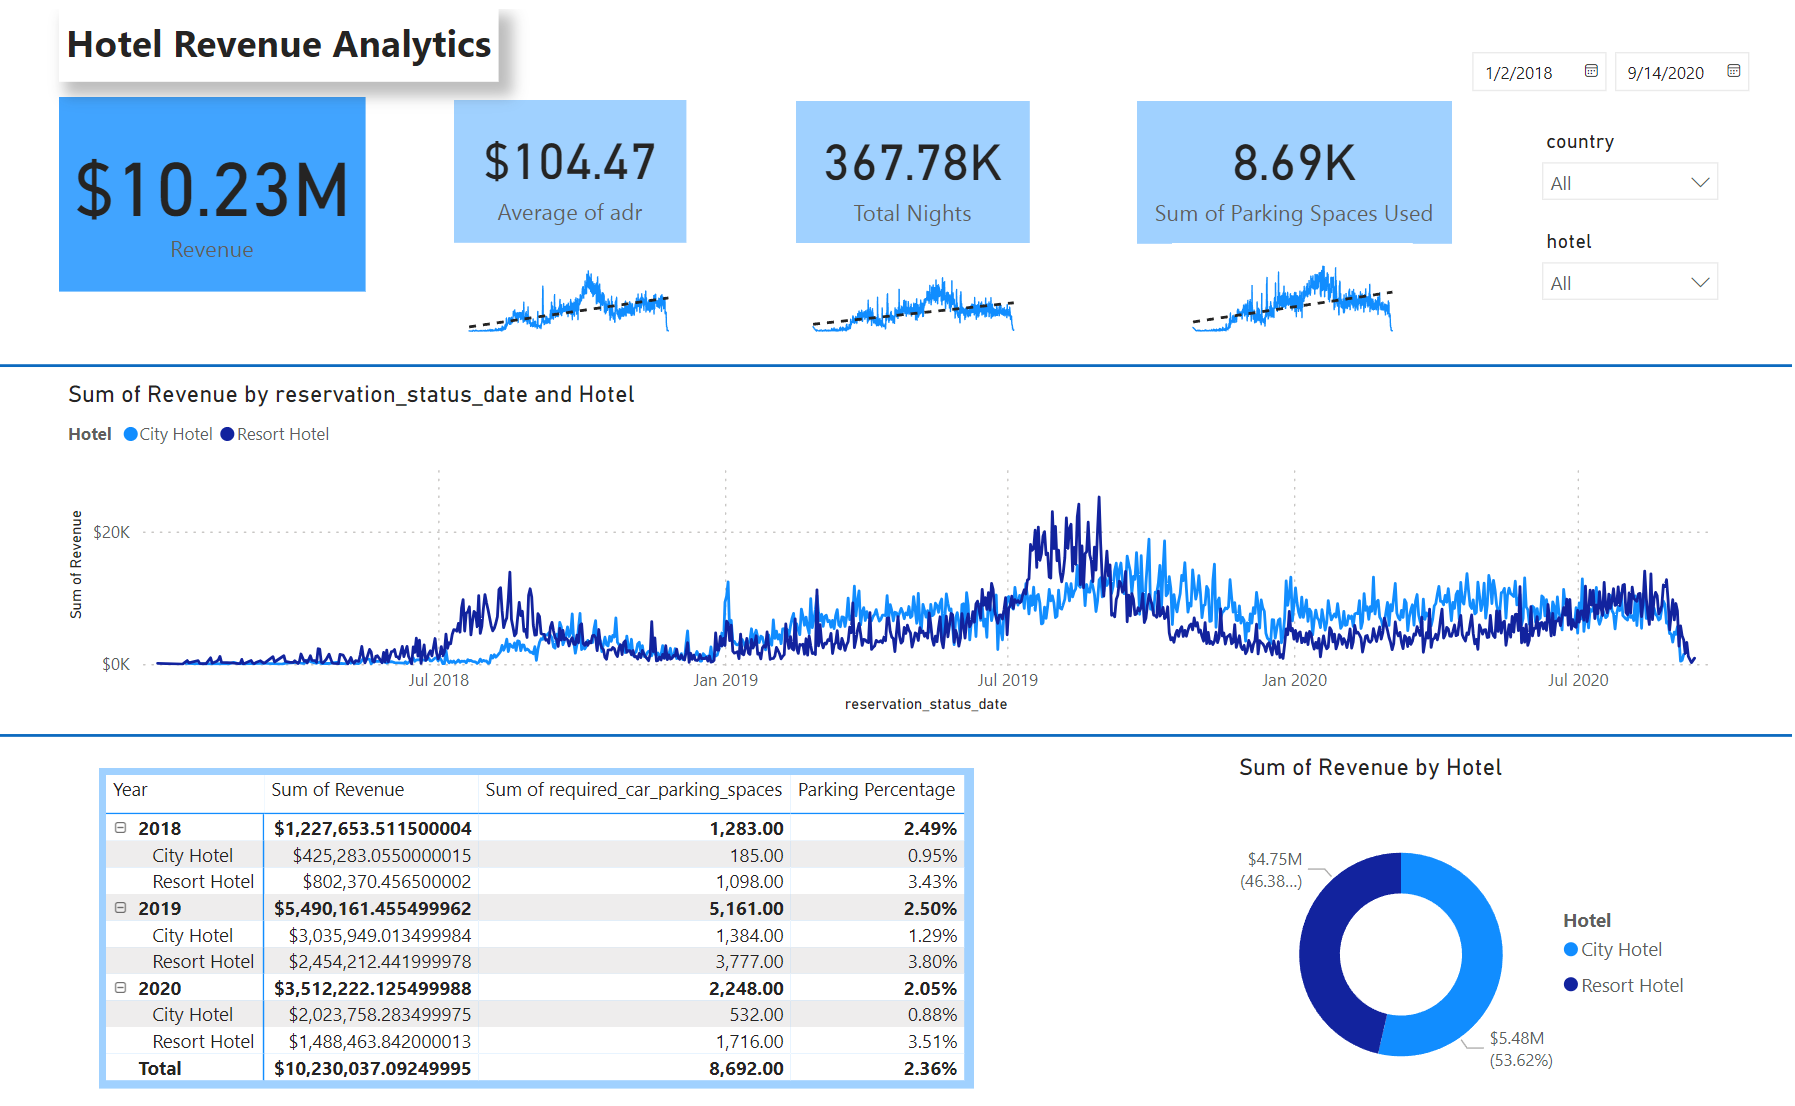

This screenshot's page, from the dashboard's own definition file:
{"tool":"powerbi","page":{"name":"Page 1","canvas":[1280,800],"ordinal":0},"visuals":[{"type":"shape","box":[0,245.1,1280,19.5],"z":0},{"type":"shape","box":[0,506.6,1280,24.9],"z":1000},{"type":"card","fields":{"Values":["Sum(Query1.Revenue)"]},"box":[42.4,63.1,218.7,138.9],"z":2000},{"type":"card","fields":{"Values":["Avg(Query1.adr)"]},"box":[324.1,65,165.5,102.5],"z":3000},{"type":"card","fields":{"Values":["Query1.Total Nights"]},"box":[568.5,66,166.5,102.5],"z":4000},{"type":"lineChart","fields":{"Category":["Query1.reservation_status_date"],"Y":["Sum(Query1.Revenue)"],"Series":["Query1.hotel"]},"box":[43.6,264.7,1193.8,241.9],"z":6000},{"type":"slicer","fields":{"Values":["Query1.country"]},"box":[1091.6,81.8,145.8,70],"z":7000},{"type":"slicer","fields":{"Values":["Query1.hotel"]},"box":[1091.6,152.7,145.8,65],"z":8000},{"type":"lineChart","fields":{"Category":["Query1.reservation_status_date"],"Y":["Sum(Query1.adr)"]},"box":[320.2,167.5,172.4,69],"z":9000},{"type":"lineChart","fields":{"Category":["Query1.reservation_status_date"],"Y":["Query1.Total Nights"]},"box":[565.5,167.5,173.4,69],"z":10000},{"type":"card","fields":{"Values":["Sum(Query1.required_car_parking_spaces)"]},"box":[811.8,66,224.6,102.5],"z":12000},{"type":"lineChart","fields":{"Category":["Query1.reservation_status_date"],"Y":["CountNonNull(Query1.reservation_status_date)"]},"box":[837.4,167.5,172.4,69],"z":13000},{"type":"donutChart","fields":{"Category":["Query1.hotel"],"Y":["Sum(Query1.Revenue)"]},"box":[880.3,531.5,337.4,268.9],"z":14000},{"type":"pivotTable","fields":{"Rows":["Query1.reservation_status_date.Variation.Date Hierarchy.Year","Query1.hotel"],"Values":["Sum(Query1.Revenue)","Sum(Query1.required_car_parking_spaces)","Query1.Parking Percentage"]},"box":[70.9,541.9,624.6,228.6],"z":15000},{"type":"slicer","fields":{"Values":["Query1.reservation_status_date"]},"box":[1038.4,20.7,219.7,42.4],"z":16000},{"type":"textbox","box":[42.4,0,314.3,52.2],"z":16001}]}

Visuals, with their boxes in screenshot pixels (x1, y1, x2, y2), scaled from the page's 1280x800 canvas onto the 1795x1106 screenshot:
shape: 0:339:1794:366
shape: 0:700:1794:735
card - Sum(Query1.Revenue): 59:87:366:279
card - Avg(Query1.adr): 454:90:687:232
card - Query1.Total Nights: 797:91:1031:233
lineChart - Query1.reservation_status_date x Sum(Query1.Revenue): 61:366:1735:700
slicer - Query1.country: 1531:113:1735:210
slicer - Query1.hotel: 1531:211:1735:301
lineChart - Query1.reservation_status_date x Sum(Query1.adr): 449:232:691:327
lineChart - Query1.reservation_status_date x Query1.Total Nights: 793:232:1036:327
card - Sum(Query1.required_car_parking_spaces): 1138:91:1453:233
lineChart - Query1.reservation_status_date x CountNonNull(Query1.reservation_status_date): 1174:232:1416:327
donutChart - Query1.hotel x Sum(Query1.Revenue): 1234:735:1708:1105
pivotTable - Query1.reservation_status_date.Variation.Date Hierarchy.Year x Query1.hotel: 99:749:975:1065
slicer - Query1.reservation_status_date: 1456:29:1764:87
textbox: 59:0:500:72
